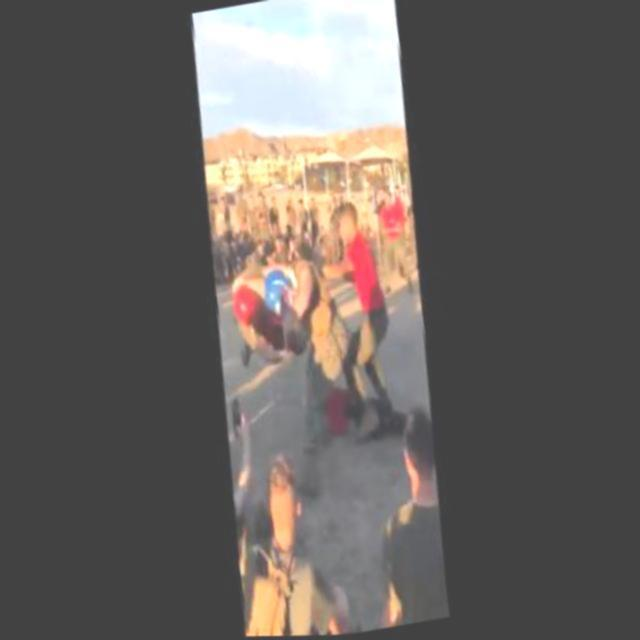fight: (217, 240, 378, 435)
